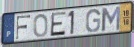1: (67, 9, 76, 36)
E: (50, 11, 67, 38)
F: (15, 14, 32, 41)
G: (85, 8, 102, 34)
M: (101, 5, 122, 32)
O: (33, 14, 49, 39)
